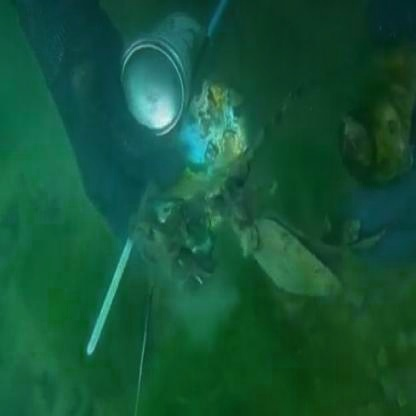can: (126, 14, 213, 117)
